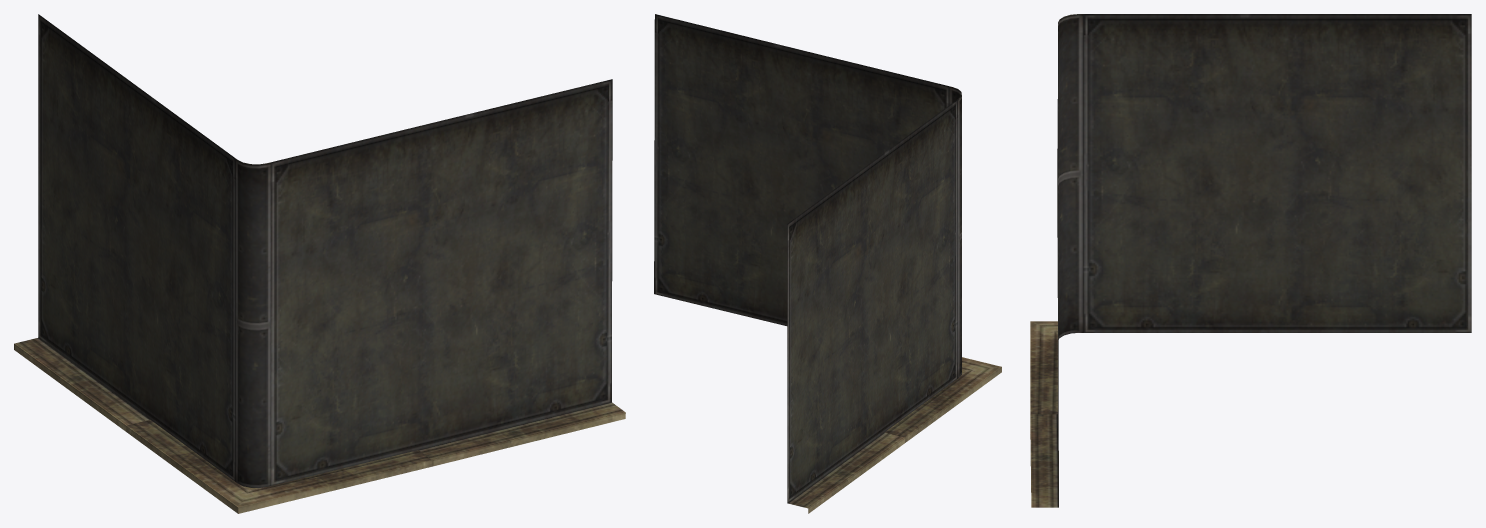
Rendered from pplant_ground_convex_blank_notop.dae.
The picture shows the model from 3 angles, left to right: view 1: azimuth 30°, elevation 25°; view 2: azimuth 150°, elevation 25°; view 3: azimuth 270°, elevation 25°; orthographic projection. The views are drawn at different scales.
Visible parts, largest first — view 1: ground_convex_blank_notop; view 2: ground_convex_blank_notop; view 3: ground_convex_blank_notop.
Part boxes in pixels (x1,y1,x2,y2): ground_convex_blank_notop: [14, 14, 625, 513]; ground_convex_blank_notop: [654, 14, 1001, 513]; ground_convex_blank_notop: [1030, 14, 1471, 507].
Bounding box in the file's own units: 4 × 3.25 × 4.
